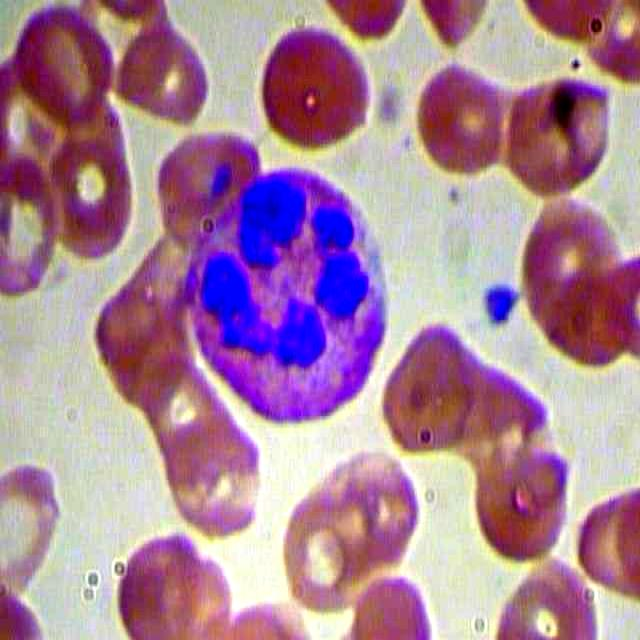Platelets: (480, 277, 526, 336)
RBC: (515, 192, 632, 380), (256, 21, 373, 158), (373, 316, 484, 459), (502, 60, 613, 203), (465, 420, 576, 563), (322, 441, 433, 584), (161, 403, 272, 545), (114, 522, 236, 640), (45, 125, 144, 264), (412, 50, 506, 182), (115, 13, 208, 132), (482, 552, 603, 640)
WBC: (181, 153, 396, 435)
